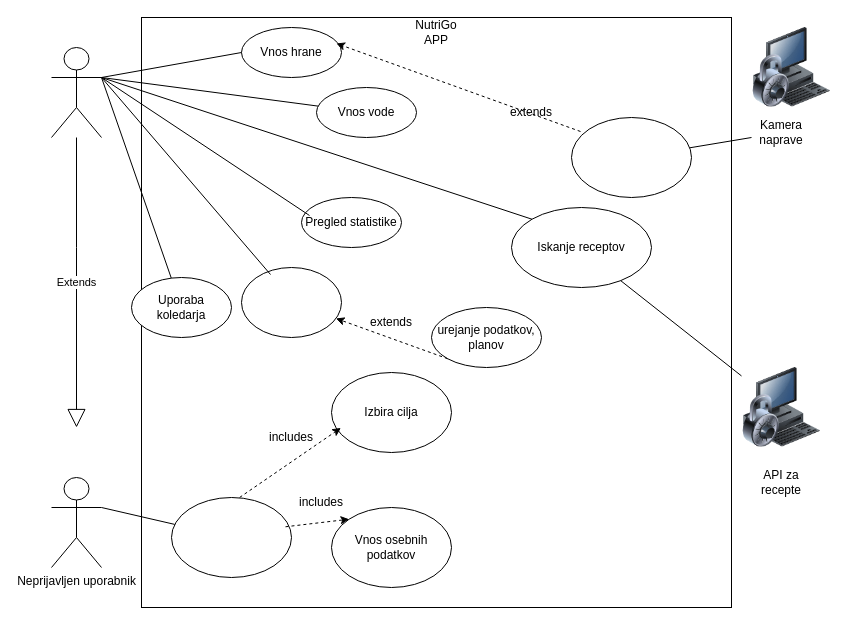
The diagram is 849 pixels wide and 625 high, and some of its shapes have lost their labels. Here are the shapes that lost their labels. From the top down, the box of each, then its label:
(50, 46, 102, 138): Prijavljen uporabnik
(570, 116, 692, 198): Skeniranje QR kode
(240, 266, 342, 338): Urejanje profila
(170, 496, 292, 578): Registracija
